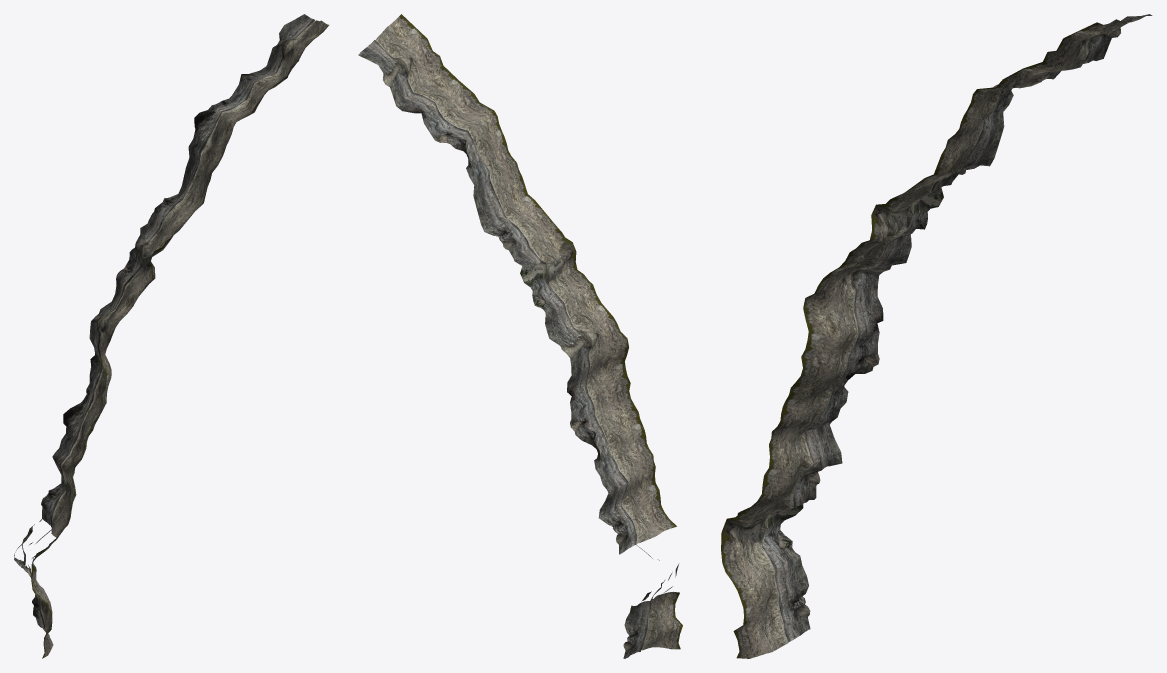
File: cliff04.glb
3 views of the same model, side by side, from view 1: azimuth 30°, elevation 25°; view 2: azimuth 150°, elevation 25°; view 3: azimuth 330°, elevation 25° (orthographic). The views are drawn at different scales.
Bounding box in the file's own units: 5874 × 10458 × 1192.
Materials: 5 (5 with a texture image).
